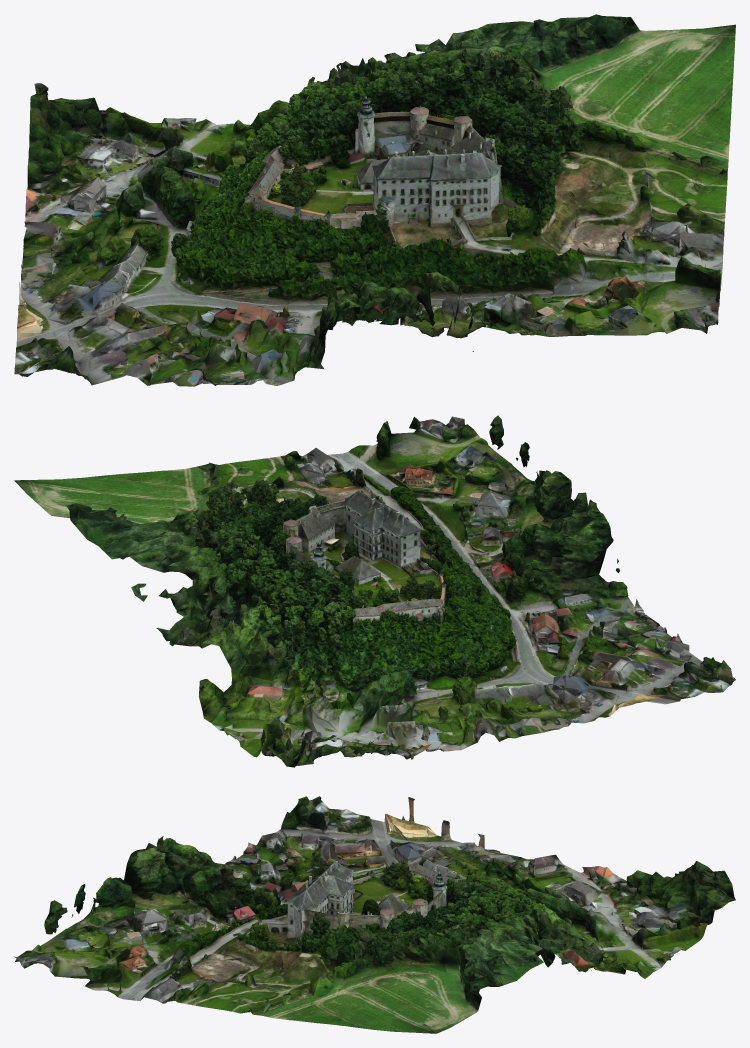
The model's file is usov-ar.glb.
3 renders of one model, top to bottom at view 1: azimuth 30°, elevation 25°; view 2: azimuth 150°, elevation 25°; view 3: azimuth 270°, elevation 25°, orthographic. The views are drawn at different scales.
Bounding box in the file's own units: 429 × 72.71 × 411.
1 material, 1 textured.
